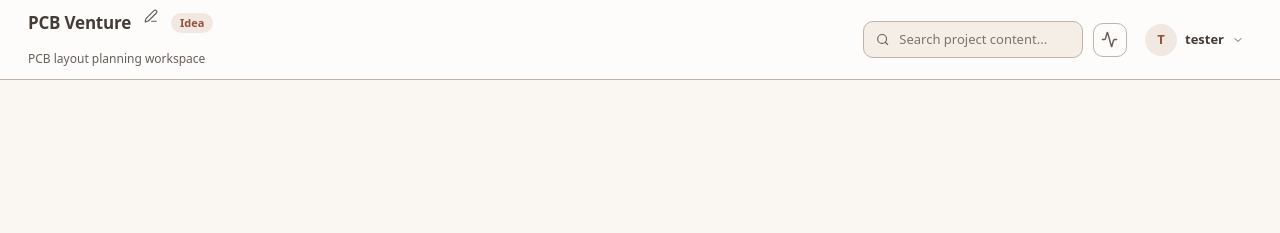
Scenario: project header actions › shows current API and database health when the health control is opened
Click the button named "Check service health": (1110, 40) [1093, 22, 1127, 56]
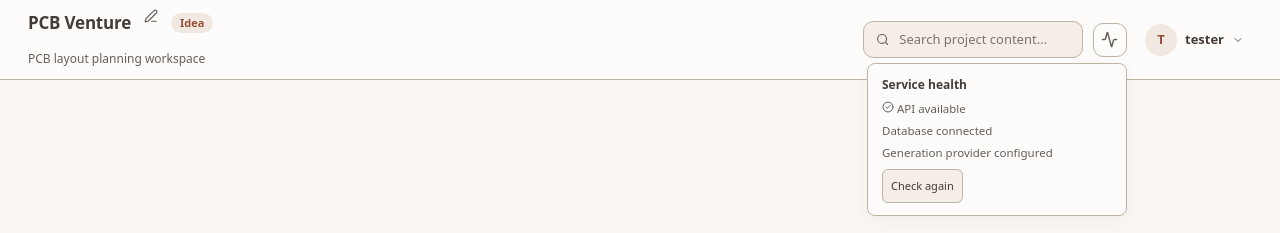
Result: the text "API available" is shown at [882, 100, 966, 116]
Result: the text "Database connected" is shown at [882, 123, 992, 138]
